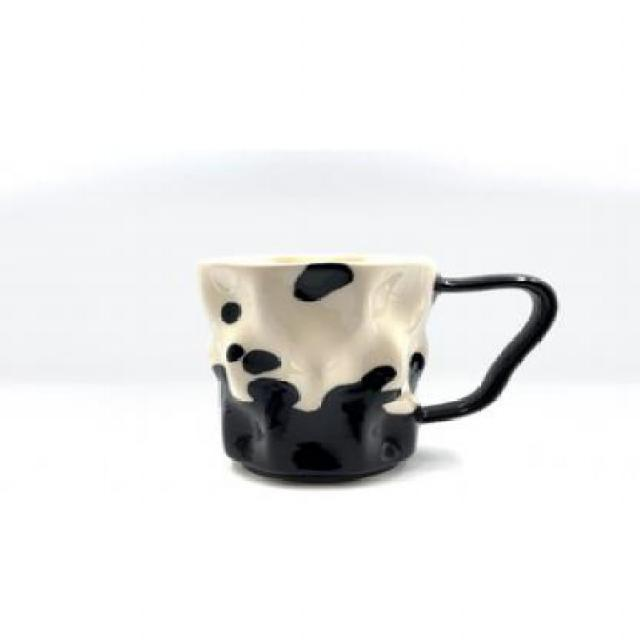taza: (193, 253, 560, 487)
